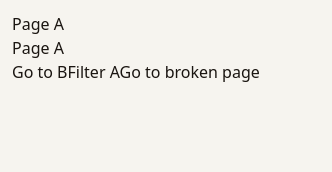
Test: moves focus to main and scrolls to the top when the pathname changes
Click the link "Go to B" at (40,72), box [12,61,68,83]
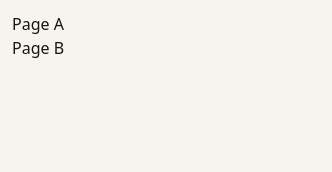
Now the heading "Page B" is shown, box [12,37,64,59]
